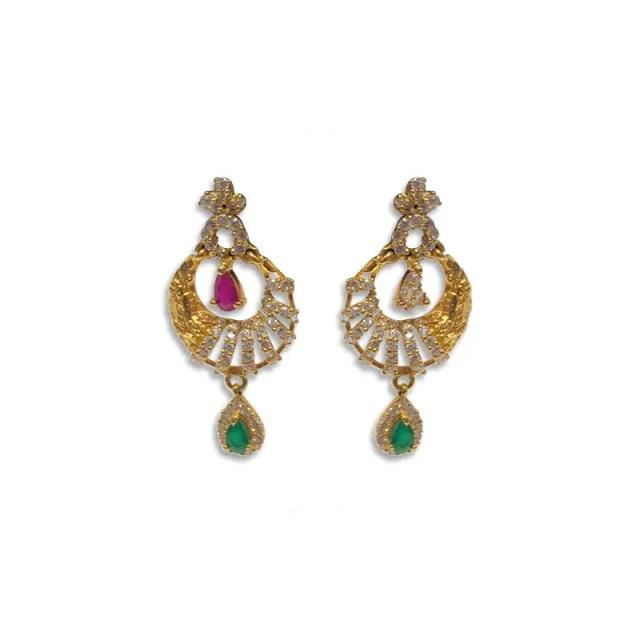missing gem: (401, 270, 422, 305)
